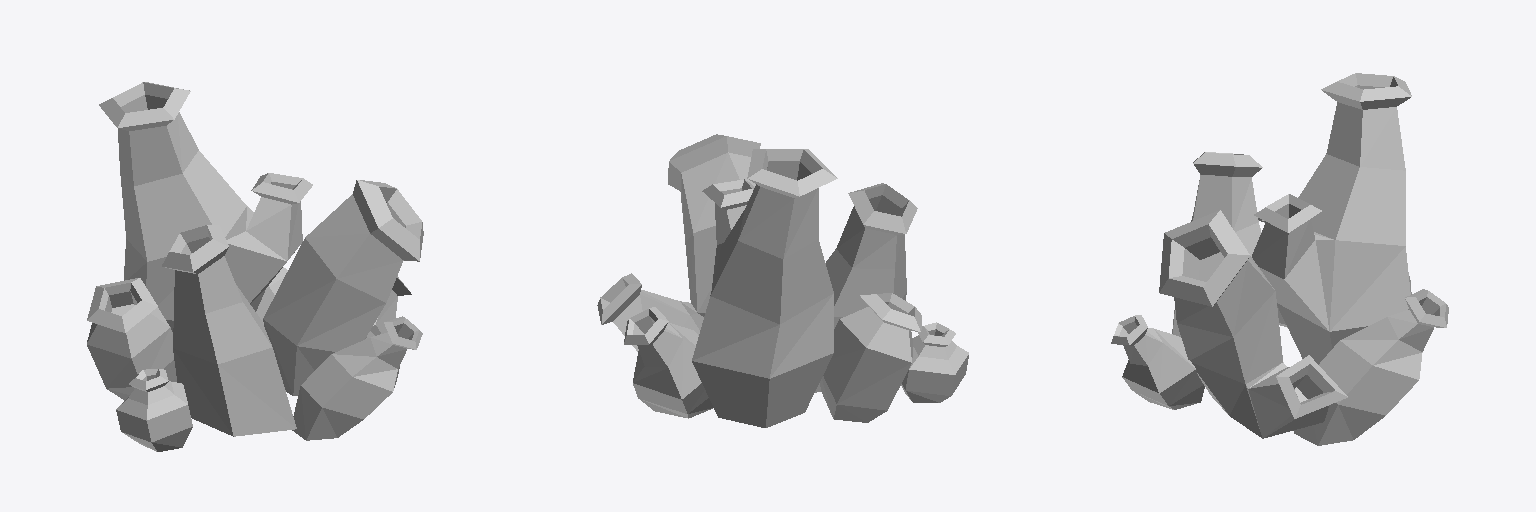
Rendered from tubecluster3.obj.
The picture shows the model from 3 angles: view 1: azimuth 30°, elevation 25°; view 2: azimuth 150°, elevation 25°; view 3: azimuth 270°, elevation 25°; orthographic projection.
Size of the model in its own units: 1.68 by 1.44 by 1.51.